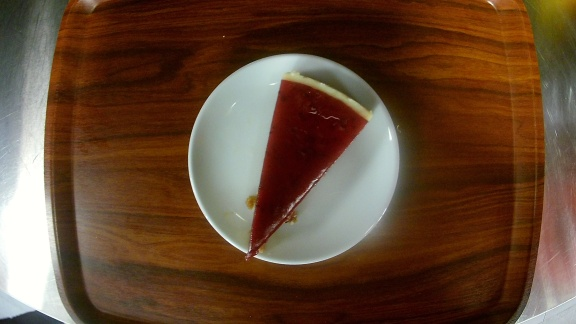frambuazlipasta: (187, 54, 401, 265)
